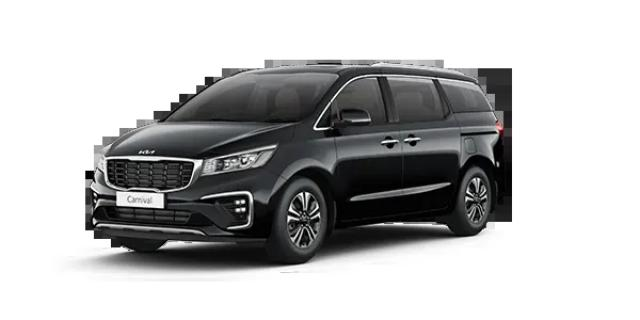kia: (88, 60, 506, 264)
